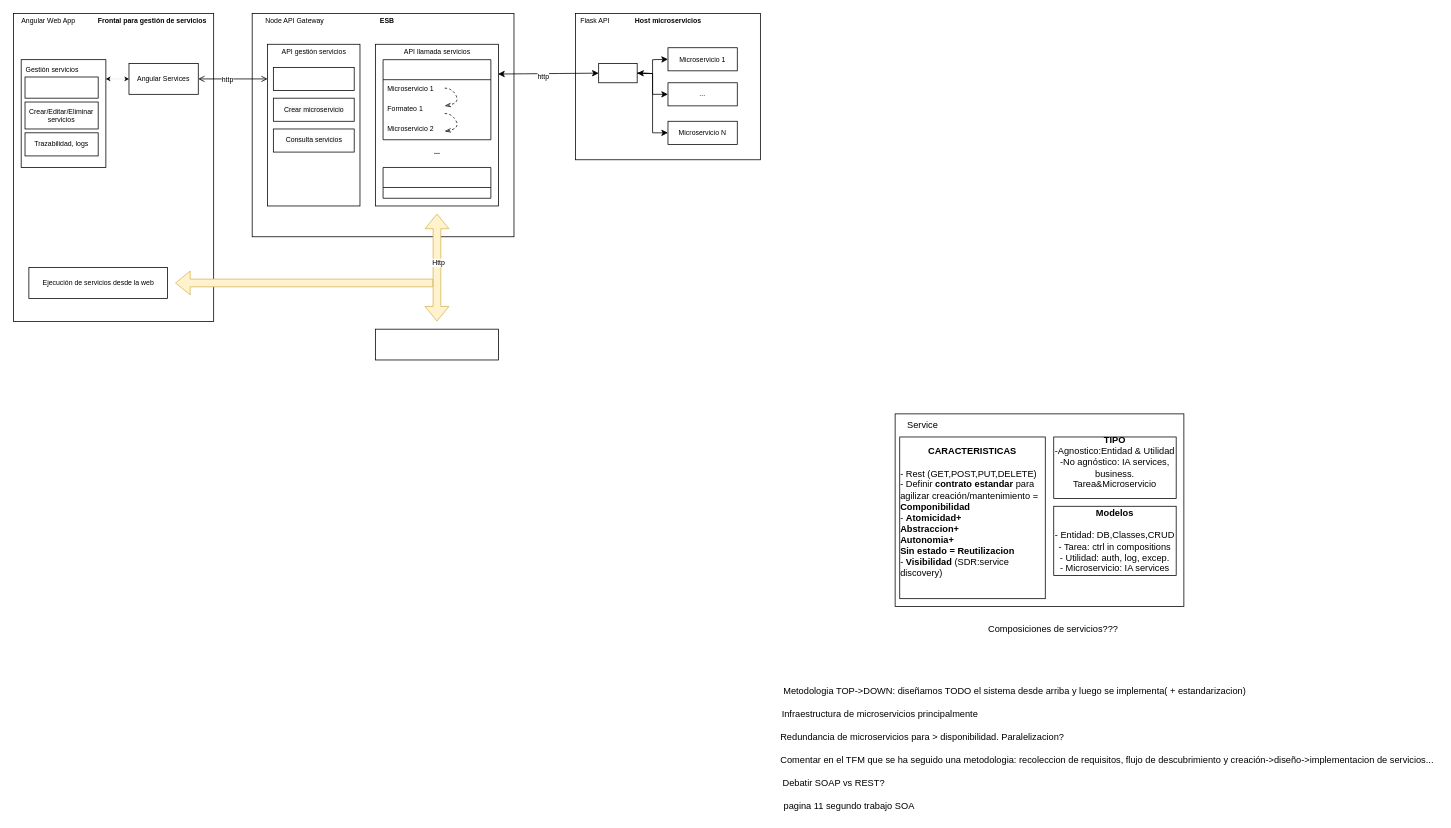
Image size: 1451x828. Some labels were removed from this diagram. The shapes that lost their labels are listed below. From the top down, each one's box as (x1, y1, x2, y2) in pixels, then its label:
(24, 76, 98, 98): Listado servicios
(273, 67, 354, 90): Crear servicio de tarea
(598, 63, 637, 83): API
(382, 59, 491, 140): Servicio tarea 1
(382, 167, 491, 198): Servicio tarea N
(375, 328, 499, 360): LLamadas terceras a servicios
